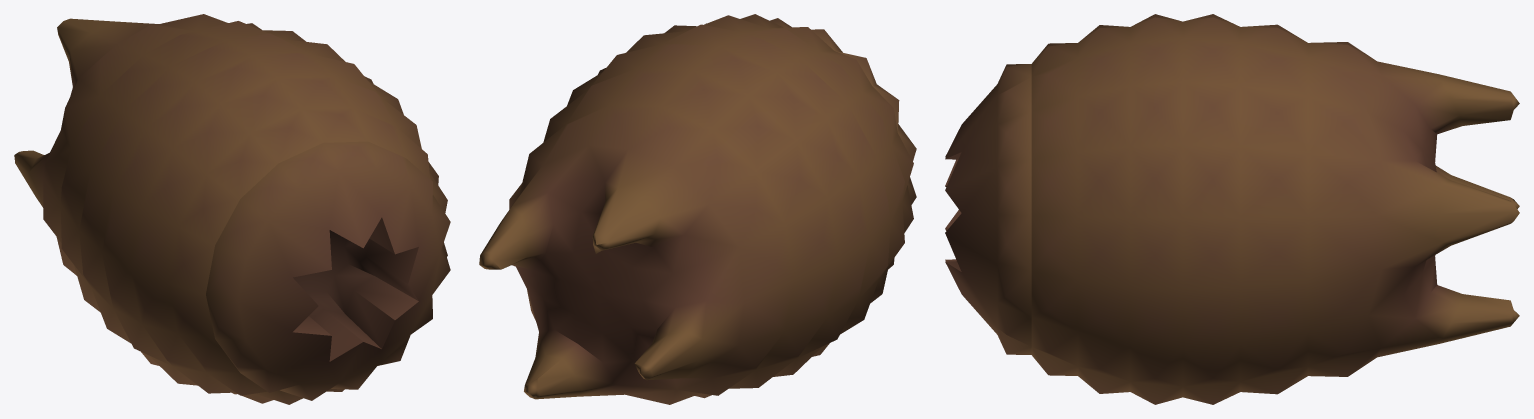
The model's file is microscopic-pollen-spores-ridged-spore_v1.glb.
The picture shows the model from 3 angles, left to right: view 1: azimuth 30°, elevation 25°; view 2: azimuth 150°, elevation 25°; view 3: azimuth 270°, elevation 25°; orthographic projection. The views are drawn at different scales.
Visible parts, largest first — view 1: Ridged Spore; view 2: Ridged Spore; view 3: Ridged Spore.
Part boxes in pixels (x1,y1,x2,y2): Ridged Spore: [14, 14, 450, 404]; Ridged Spore: [479, 14, 916, 404]; Ridged Spore: [945, 14, 1519, 404].
Bounding box in the file's own units: 0.2025 × 0.2025 × 0.3.
